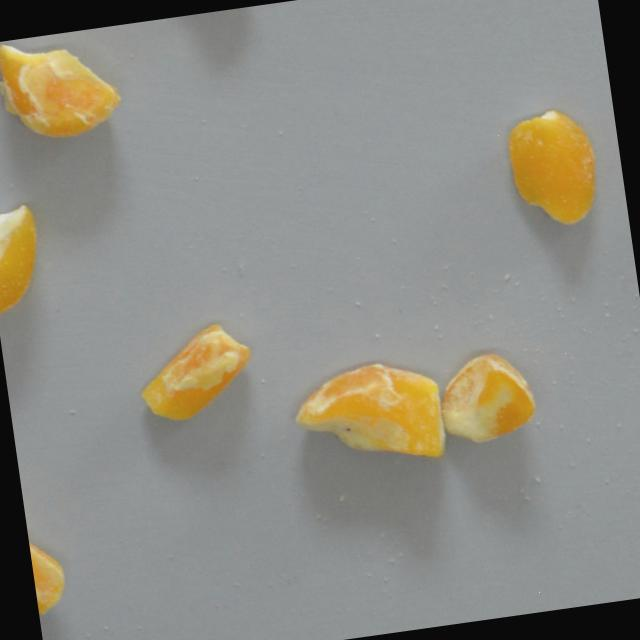dañado: (0, 25, 133, 152), (127, 315, 266, 434), (496, 102, 606, 235), (430, 346, 547, 454), (0, 199, 58, 323), (22, 495, 77, 619)
punto_negro: (283, 351, 454, 481)
